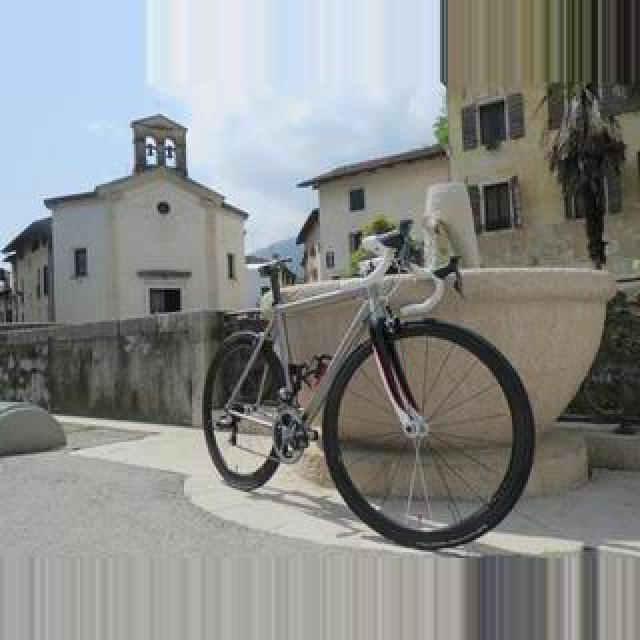Person: (200, 210, 536, 548)
